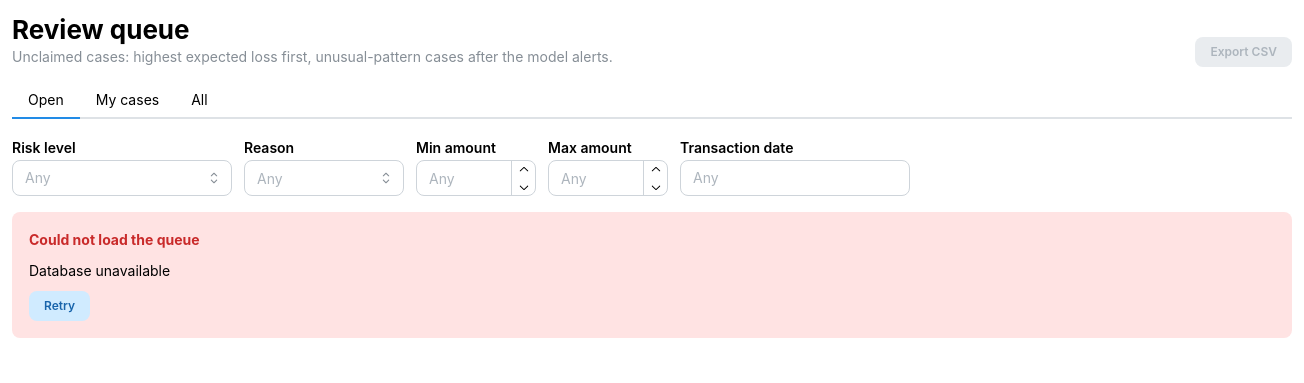
Scenario: QueuePage › shows the error and retries
The image size is (1304, 383).
expect the text "Database unavailable" is shown: met, box [29, 261, 170, 281]
Click the button "Retry" at point(60, 306), box [29, 291, 90, 321]
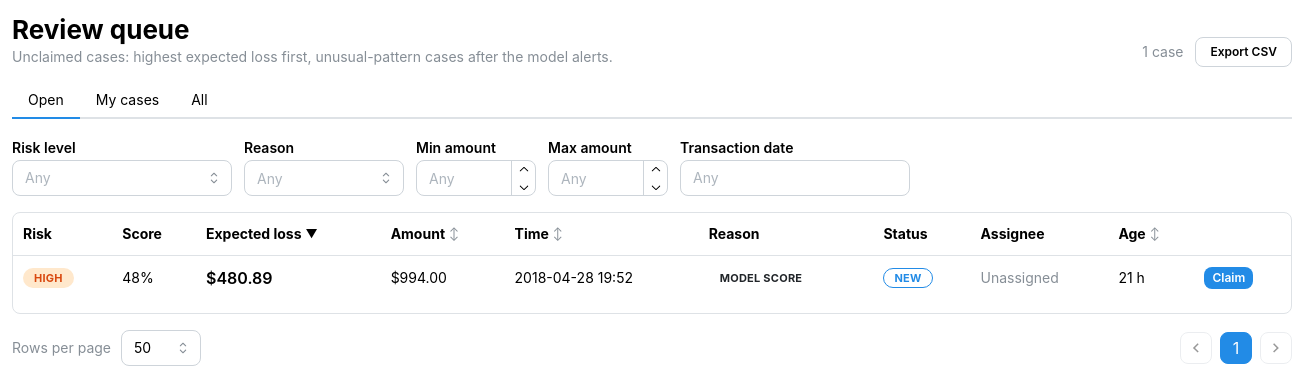
expect the row named "Case 122" is shown: met, box [13, 255, 1291, 301]
